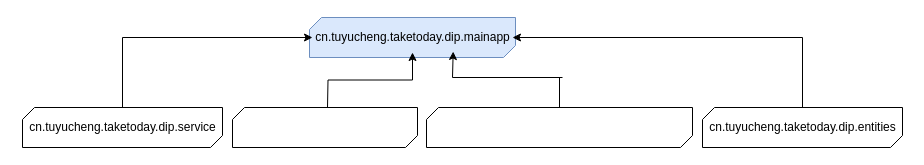
Image size: 924x165. Some labels were removed from this diagram. The centre of each missing label's shape, as x and y in pixels:
"cn.tuyucheng.taketoday.dip.dao" belongs at [325,127].
"cn.tuyucheng.taketoday.dip.daoimplementations" belongs at [559,127].
